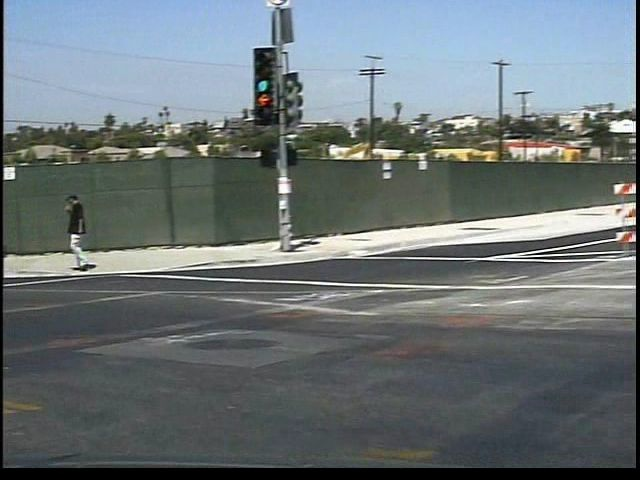person: (50, 188, 92, 281)
